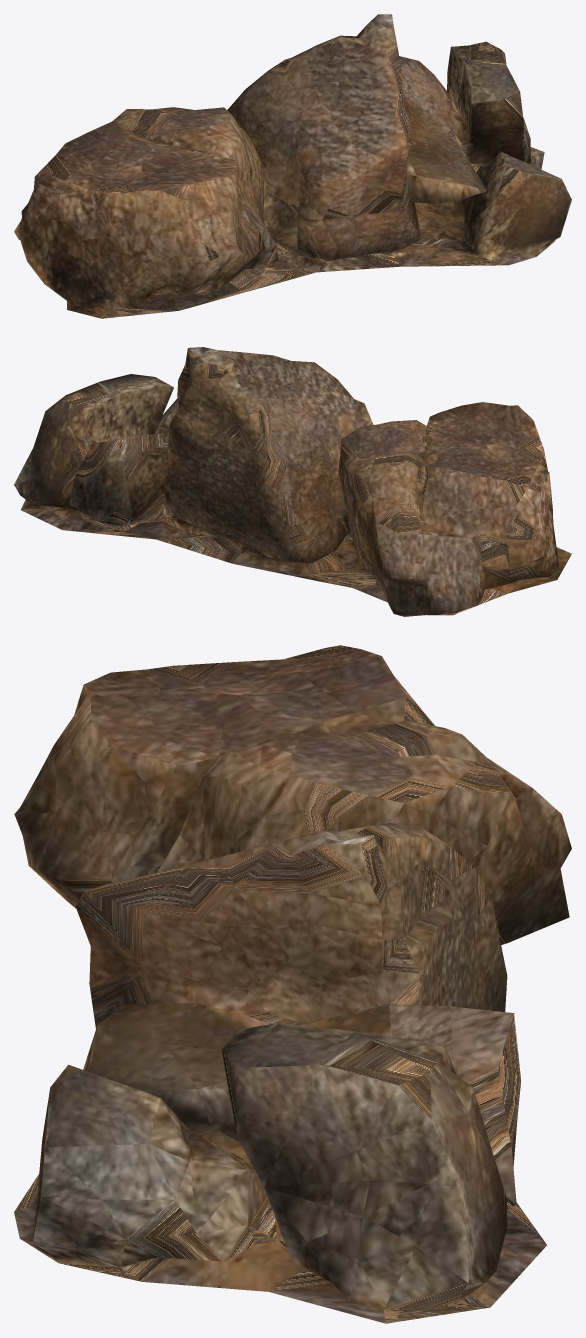
File: rock_boulder_01.obj
3 views of the same model, one above another, from view 1: azimuth 30°, elevation 25°; view 2: azimuth 150°, elevation 25°; view 3: azimuth 270°, elevation 25° (orthographic). The views are drawn at different scales.
Visible parts, largest first — view 1: rock_boulder_01; view 2: rock_boulder_01; view 3: rock_boulder_01.
Part boxes in pixels (x1=…): rock_boulder_01: x1=14, y1=14, x2=571, y2=318; rock_boulder_01: x1=14, y1=347, x2=571, y2=616; rock_boulder_01: x1=14, y1=645, x2=571, y2=1323.
Bounding box in the file's own units: 2.51 × 0.8549 × 1.23.
Materials: 1 (1 with a texture image).
